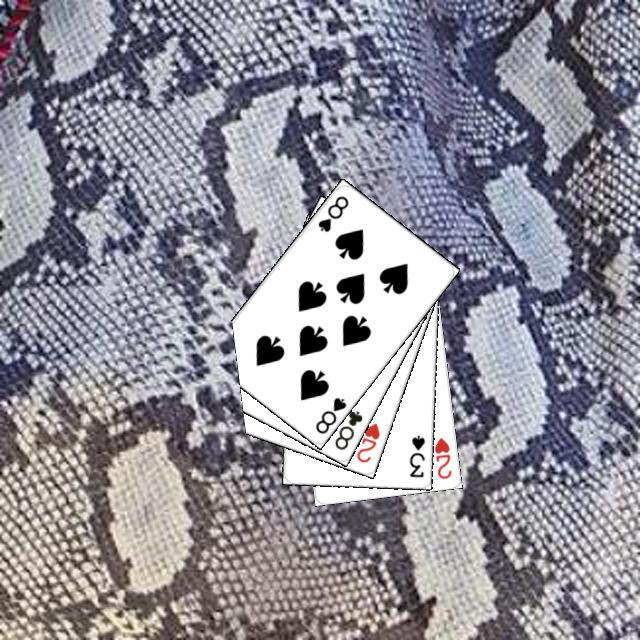2h: (351, 418, 381, 464), (429, 433, 453, 481)
3s: (405, 430, 426, 479)
8c: (330, 406, 364, 452)
8s: (310, 392, 348, 436), (313, 191, 350, 234)
